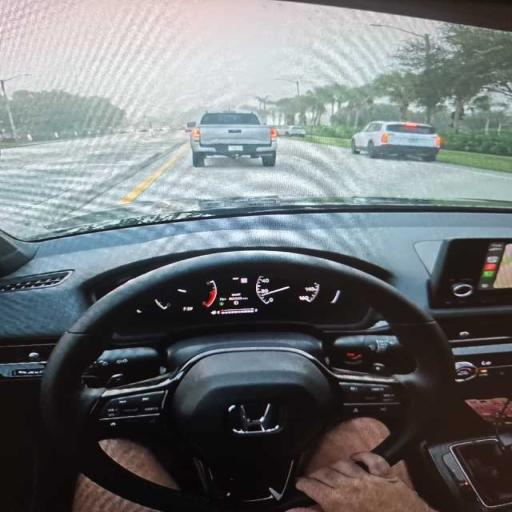car: (0, 0, 511, 511), (351, 122, 442, 161), (285, 126, 306, 136), (185, 122, 196, 132)
lane: (138, 139, 511, 201), (0, 133, 183, 232)
person: (288, 418, 434, 511)
truck: (191, 111, 277, 166)
